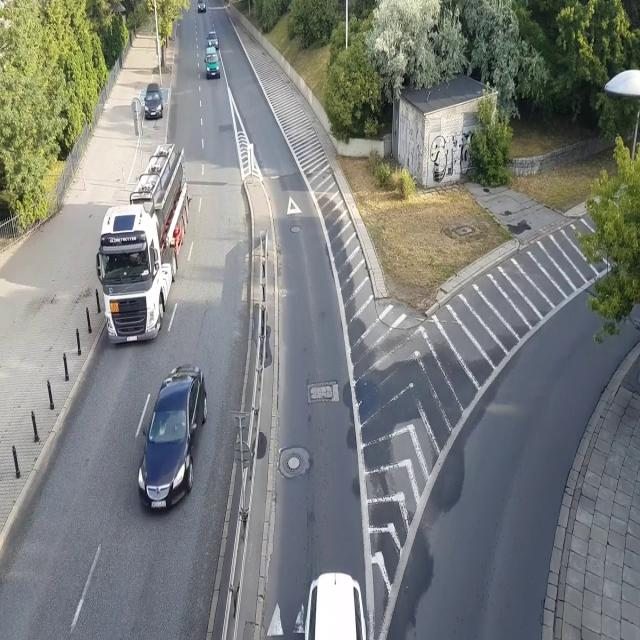car: (136, 364, 208, 514), (143, 82, 164, 120), (207, 31, 219, 50), (196, 0, 205, 13)
truck: (95, 144, 192, 344)
van: (204, 47, 220, 81)
